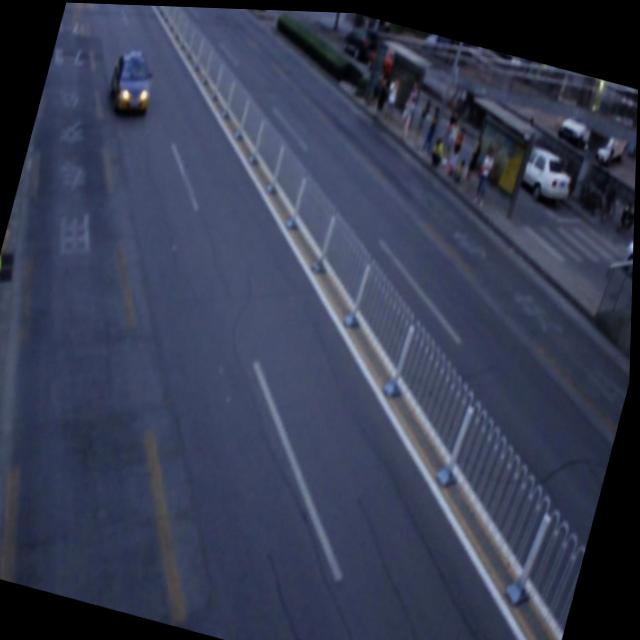car: (102, 44, 161, 120)
